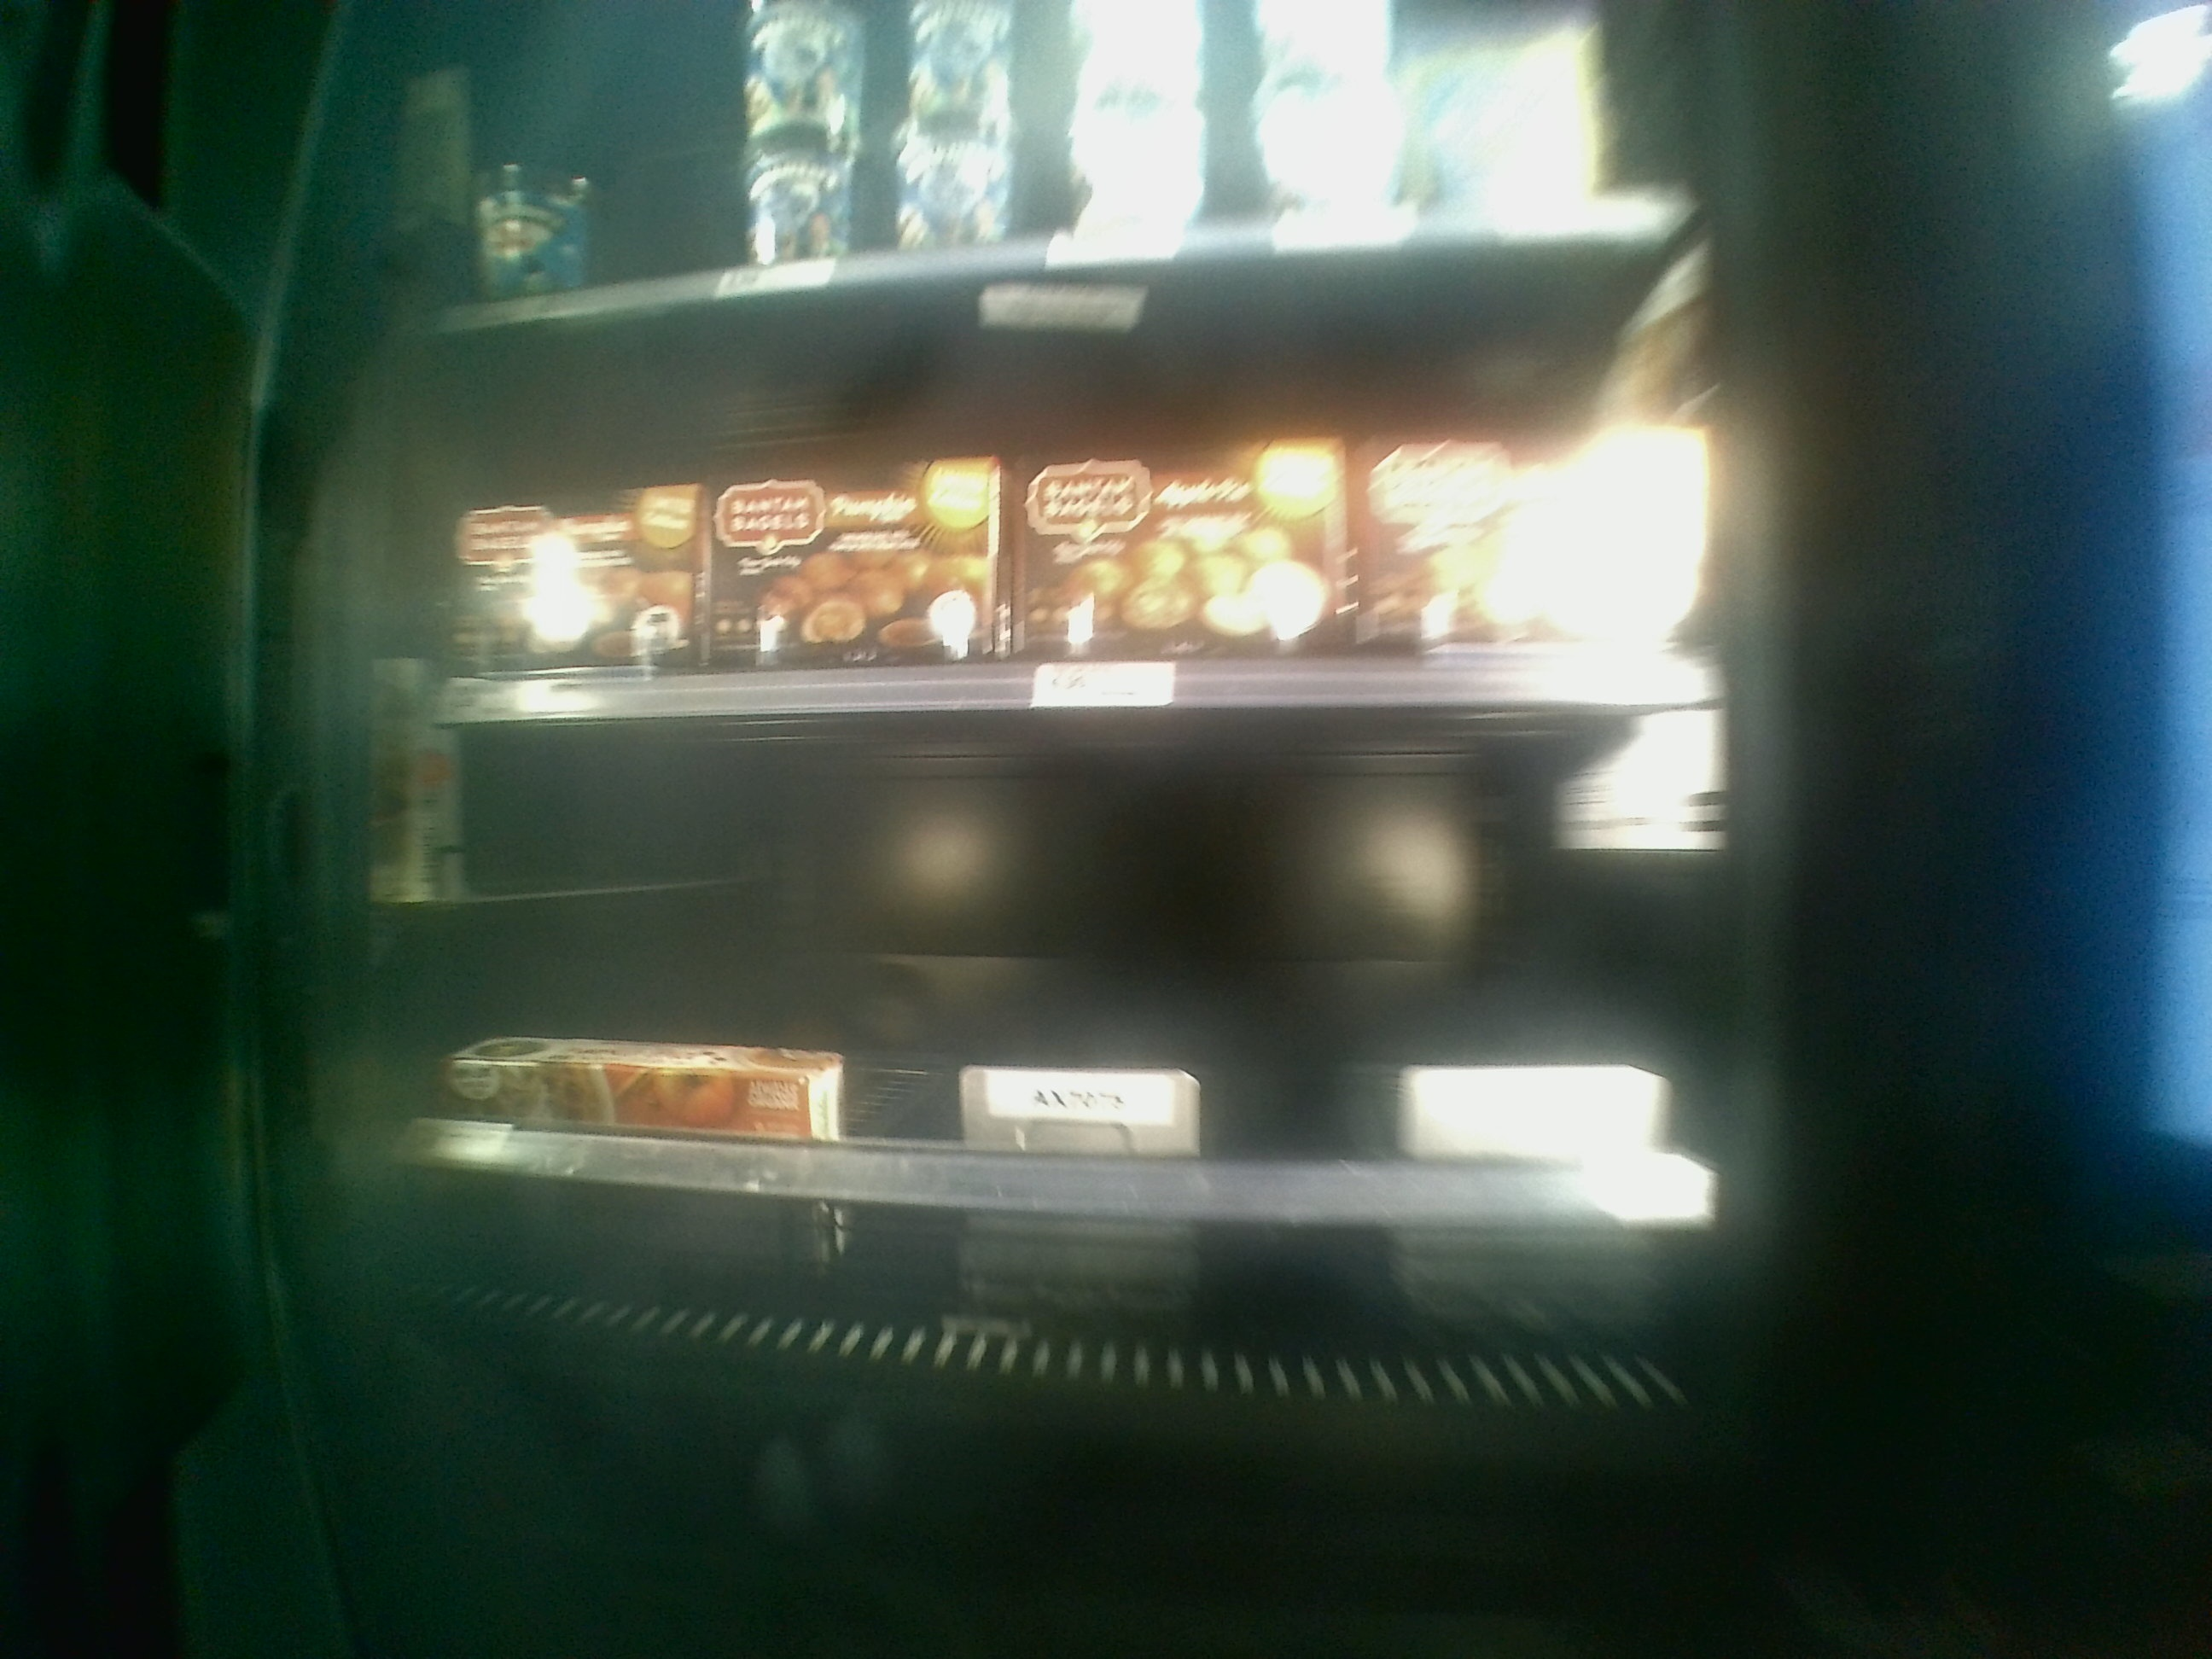shelf: (427, 695, 1693, 1225), (435, 319, 1710, 704)
